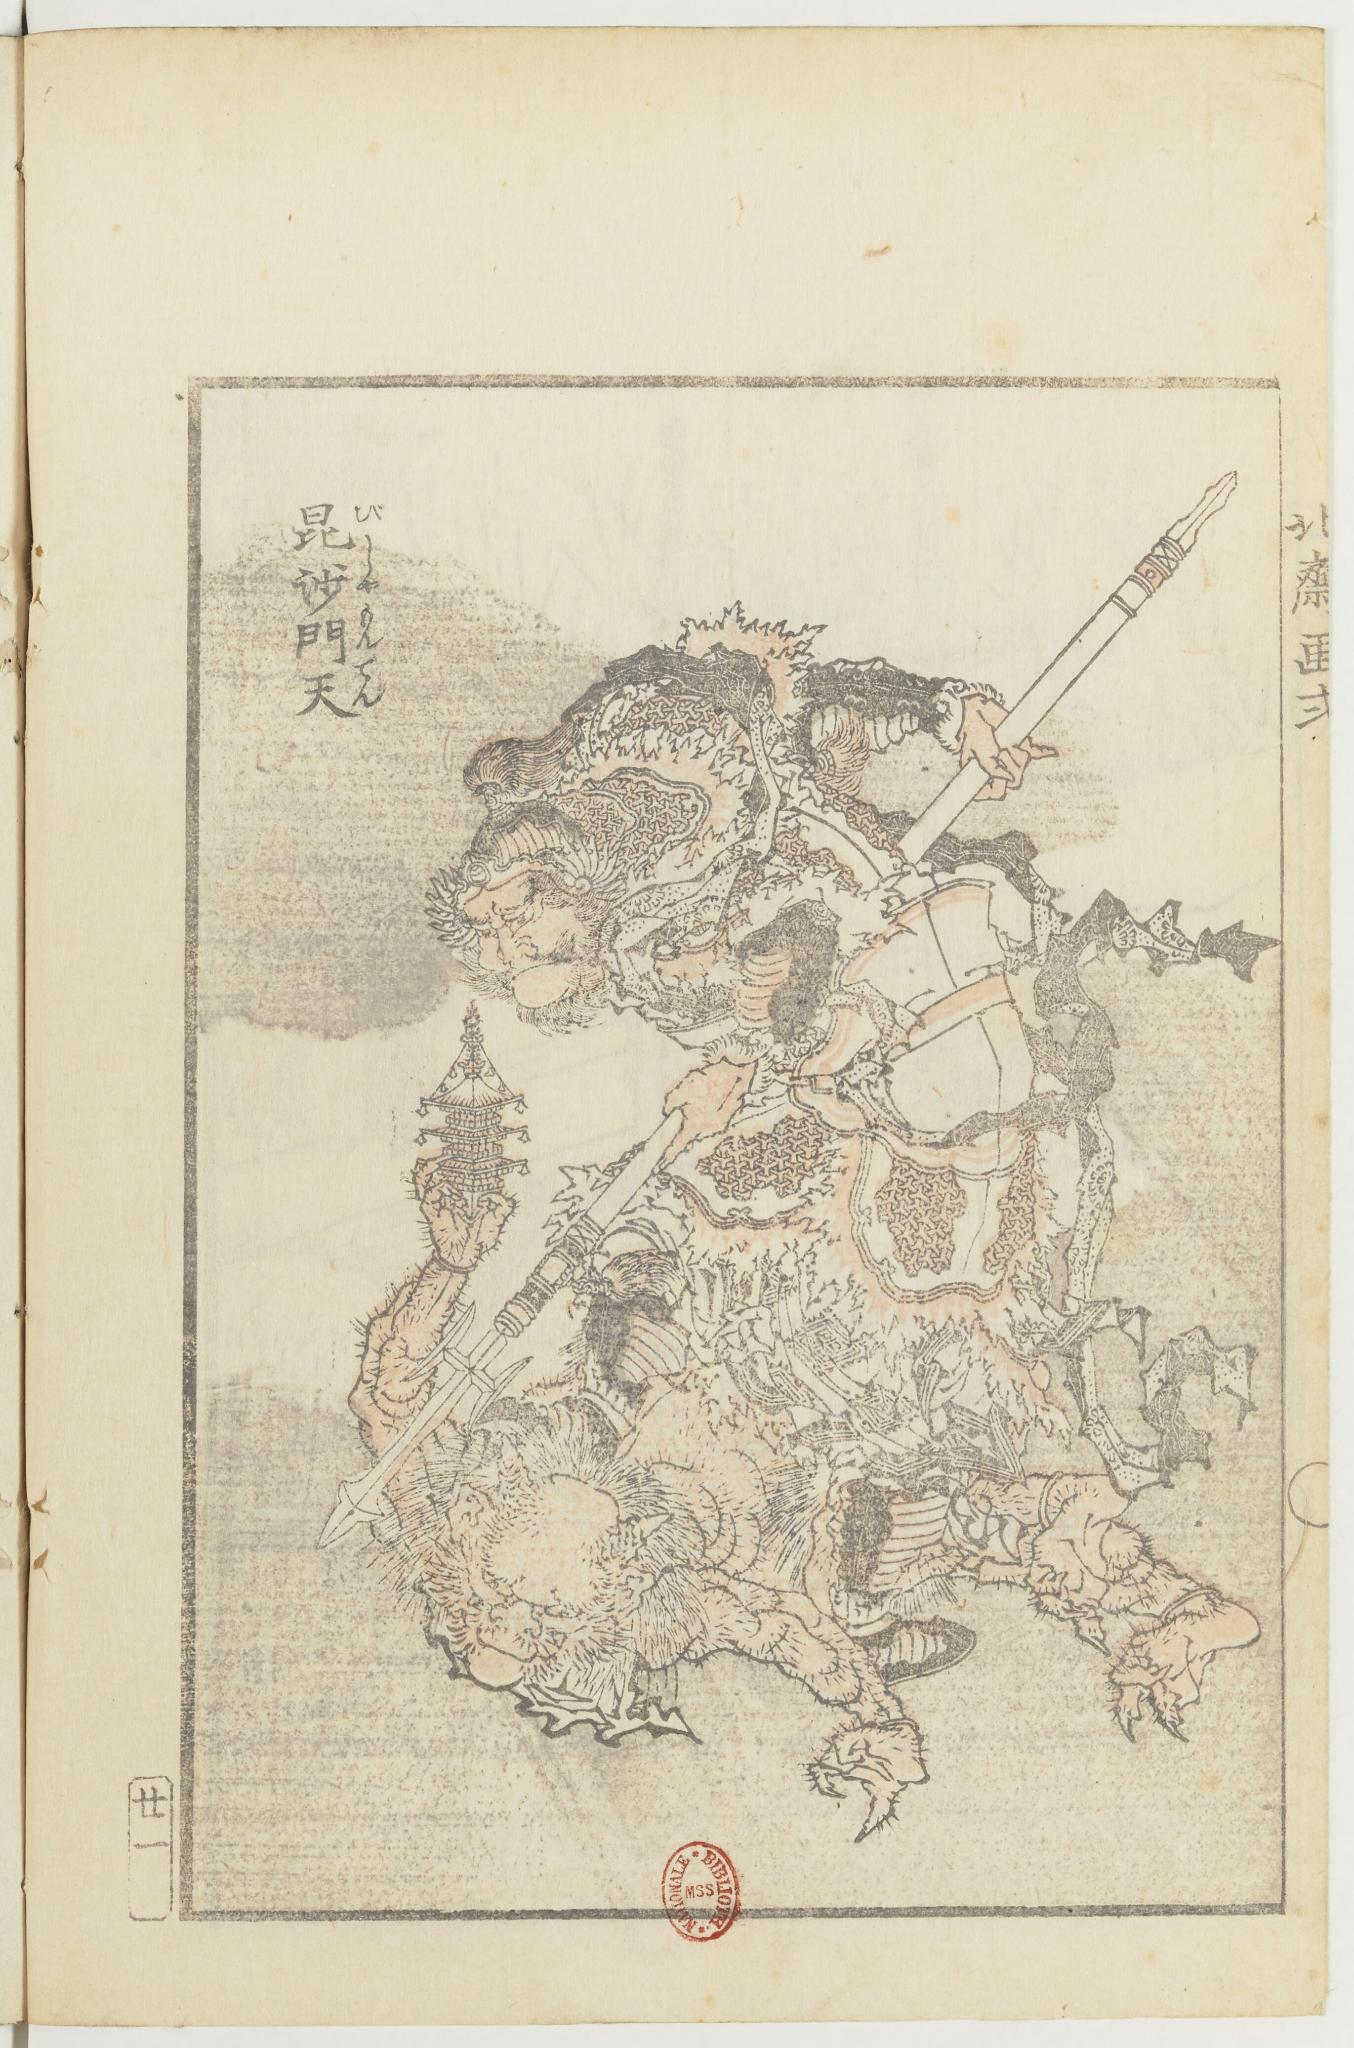MainZone-Character: (274, 657, 399, 723), (283, 495, 390, 559), (284, 604, 388, 669), (278, 560, 385, 615)
MainZone-Ruby: (354, 659, 384, 713), (354, 500, 385, 551), (355, 604, 384, 652), (354, 565, 379, 598)
